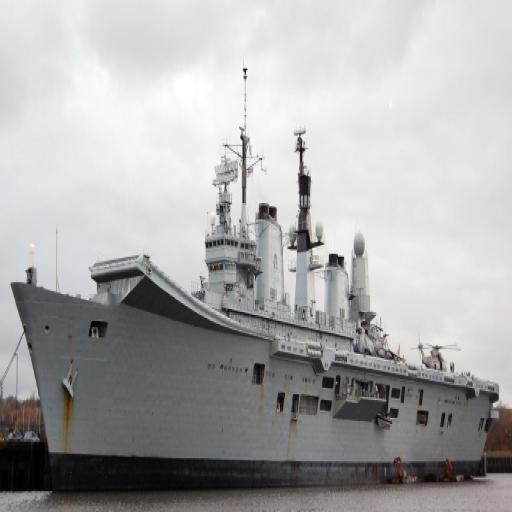Portanaves: (9, 56, 504, 491)
